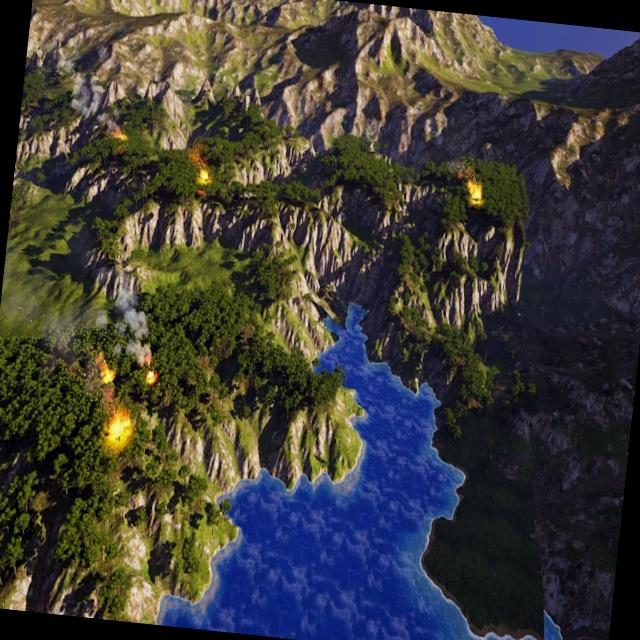fire: (108, 413, 132, 445), (95, 356, 116, 386), (467, 182, 483, 202), (114, 128, 128, 142), (144, 368, 156, 384), (198, 168, 209, 182)
smoke: (41, 278, 158, 369)
